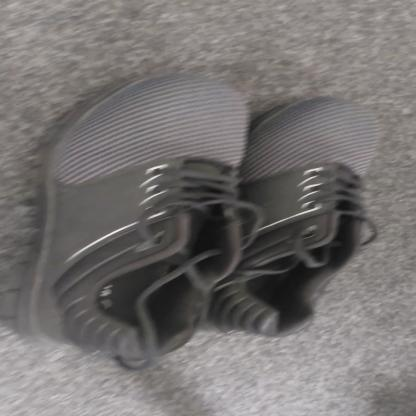safety-shoe: (15, 72, 385, 362)
